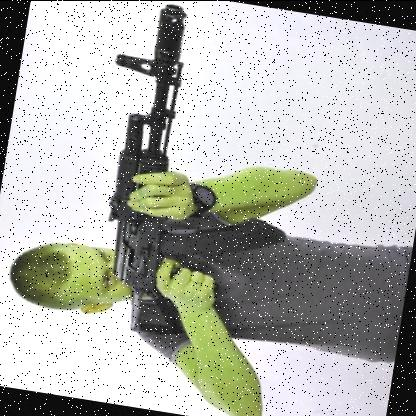rifle: (83, 0, 302, 350)
